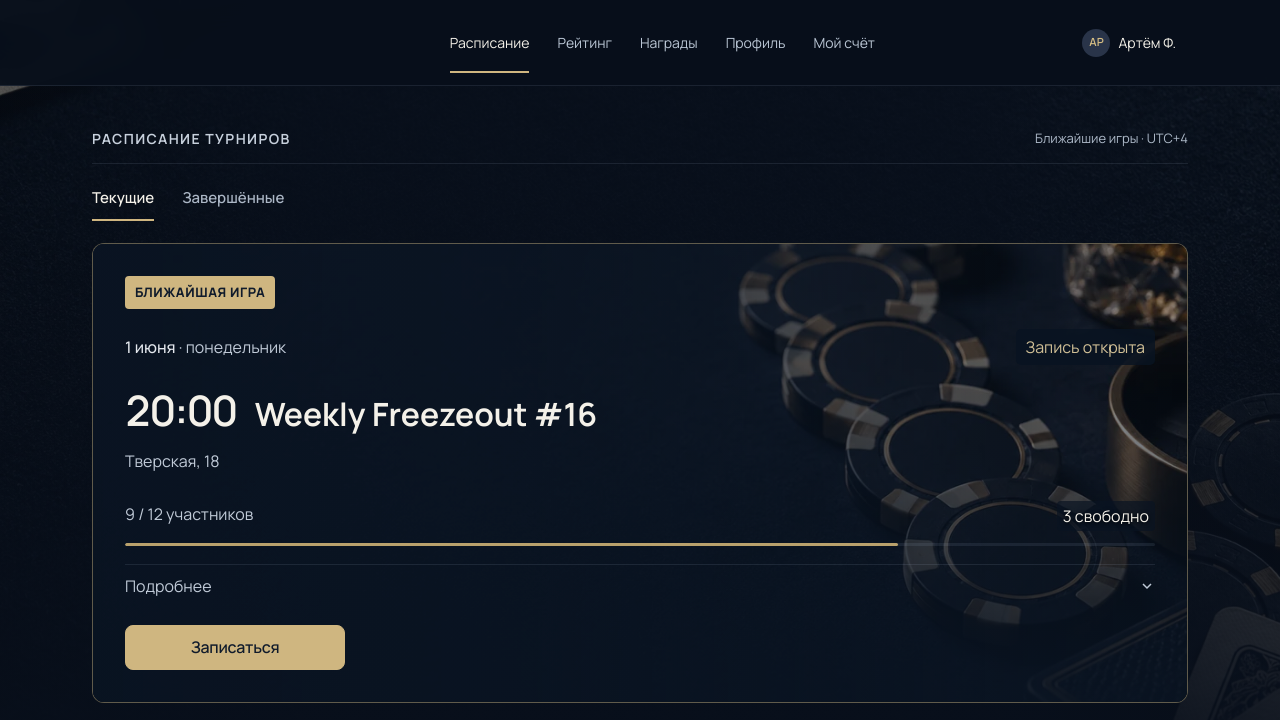
Test case: registration › surfaces the server message when the seat is already taken
This screenshot has width=1280, height=720.
Click the button "Записаться" at [235, 648], box [125,625,345,670]
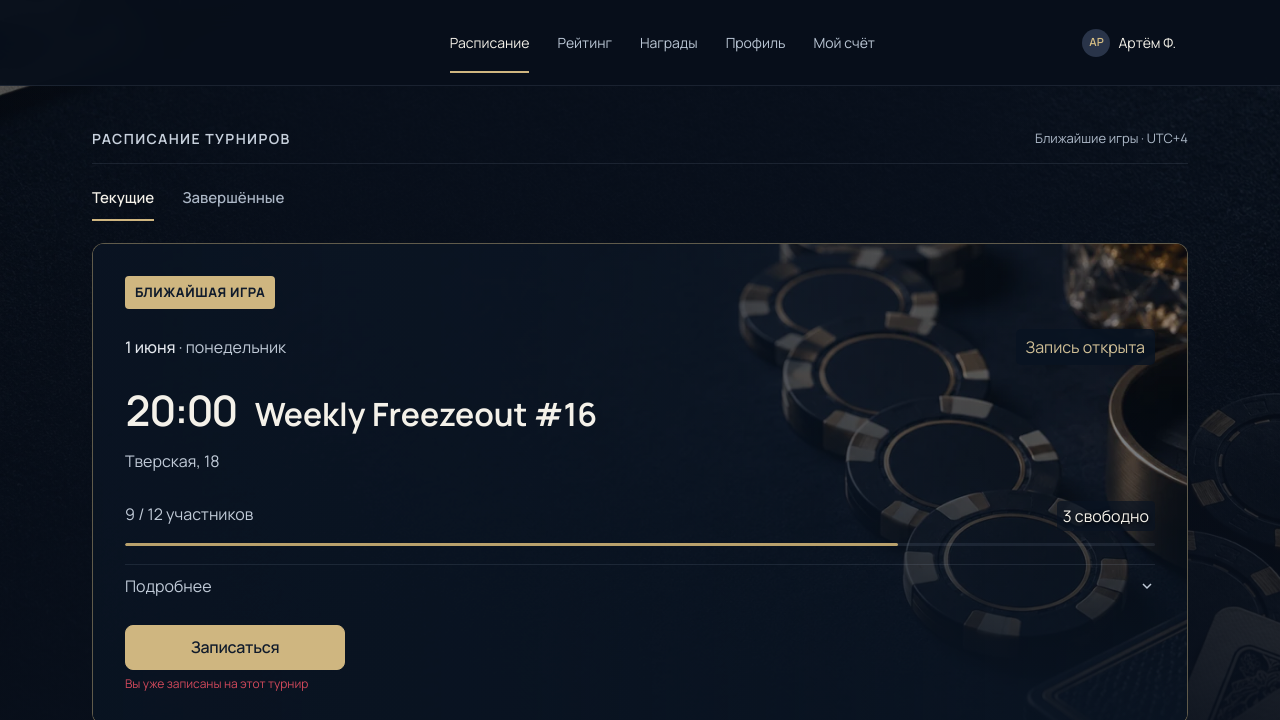
Now the text "Вы уже записаны на этот турнир" is shown, box [125,675,308,692]
